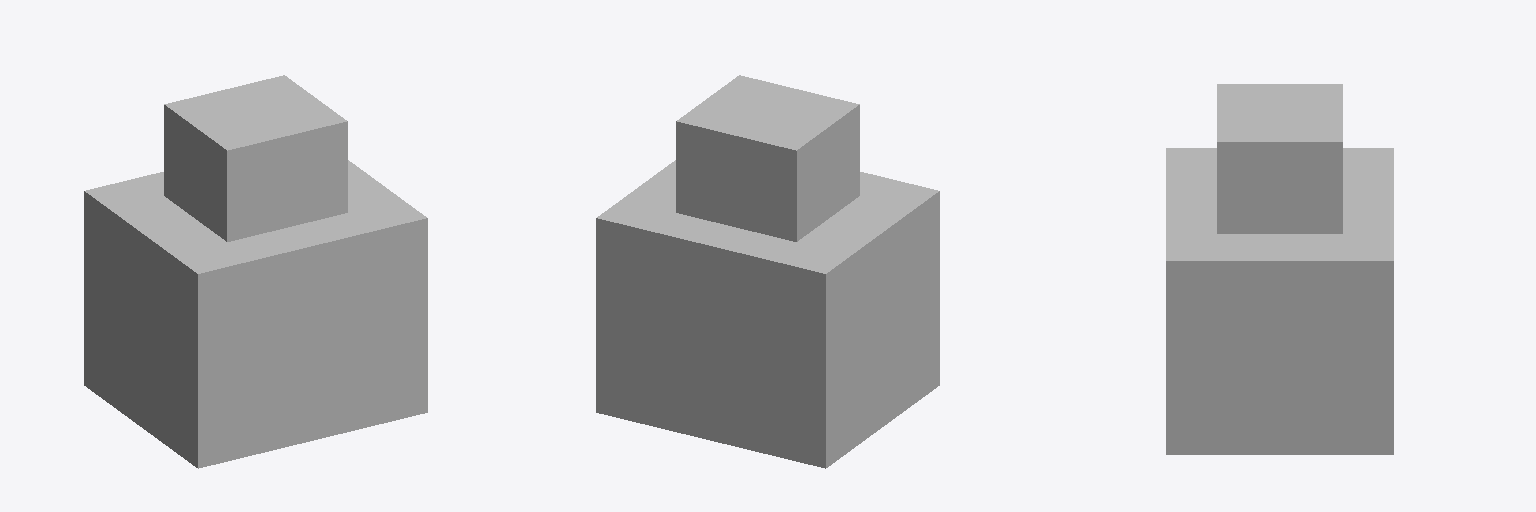
Rendered from boxer body.obj.
3 views of the same model, side by side, from view 1: azimuth 30°, elevation 25°; view 2: azimuth 150°, elevation 25°; view 3: azimuth 270°, elevation 25° (orthographic).
Size of the model in its own units: 21 by 25 by 18.